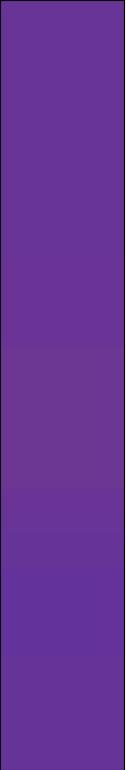safe: (11, 9, 111, 759)
